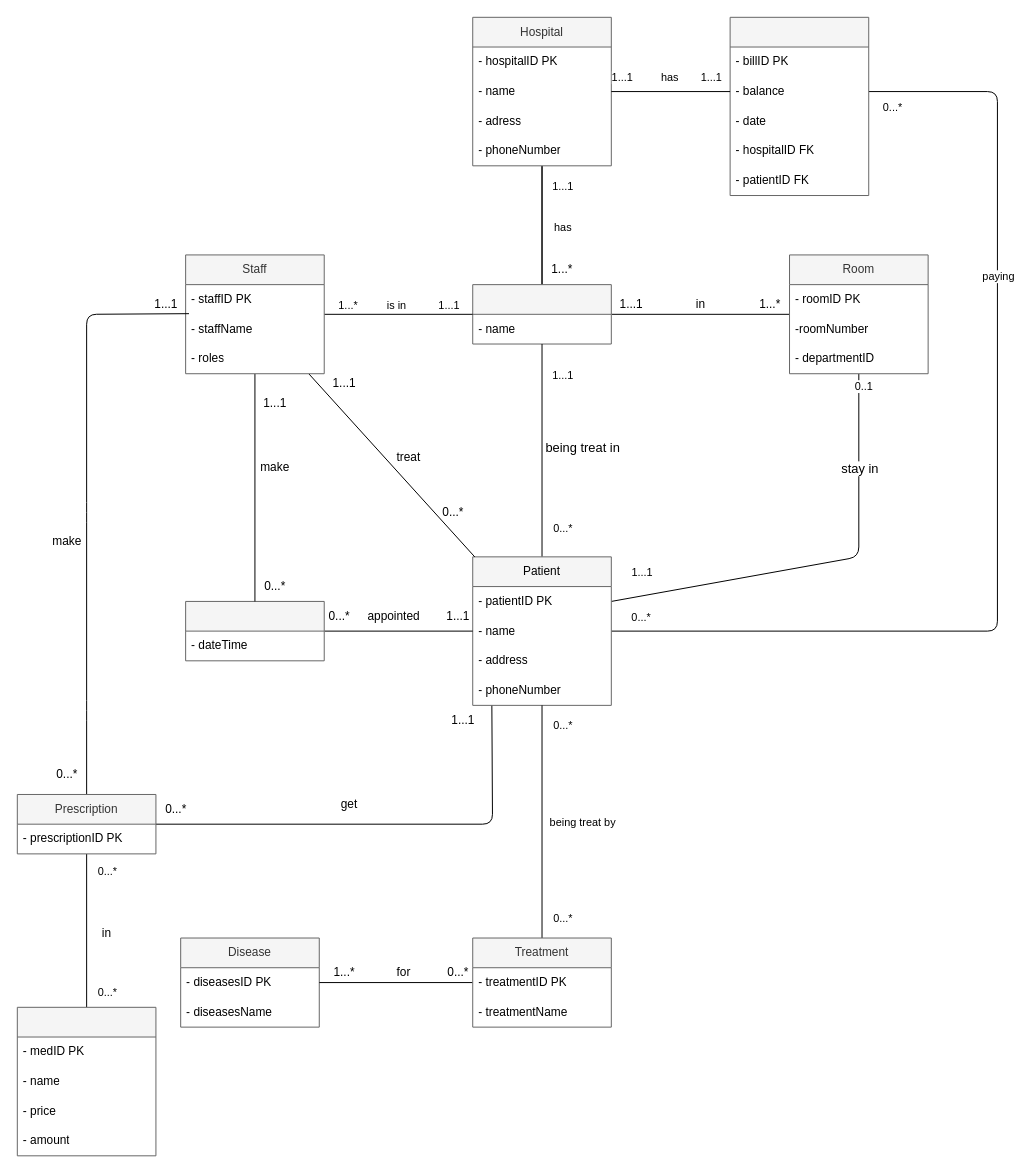
Some shapes in this 1031 by 1173 pixel diagram are drawn without their labels. The box of each missing label's shape, as (x1, y1, x2, y2) in pixels:
Accounting: (729, 16, 869, 196)
Appoinment: (185, 600, 324, 661)
Department: (472, 284, 611, 344)
Medicine: (16, 1006, 156, 1156)
